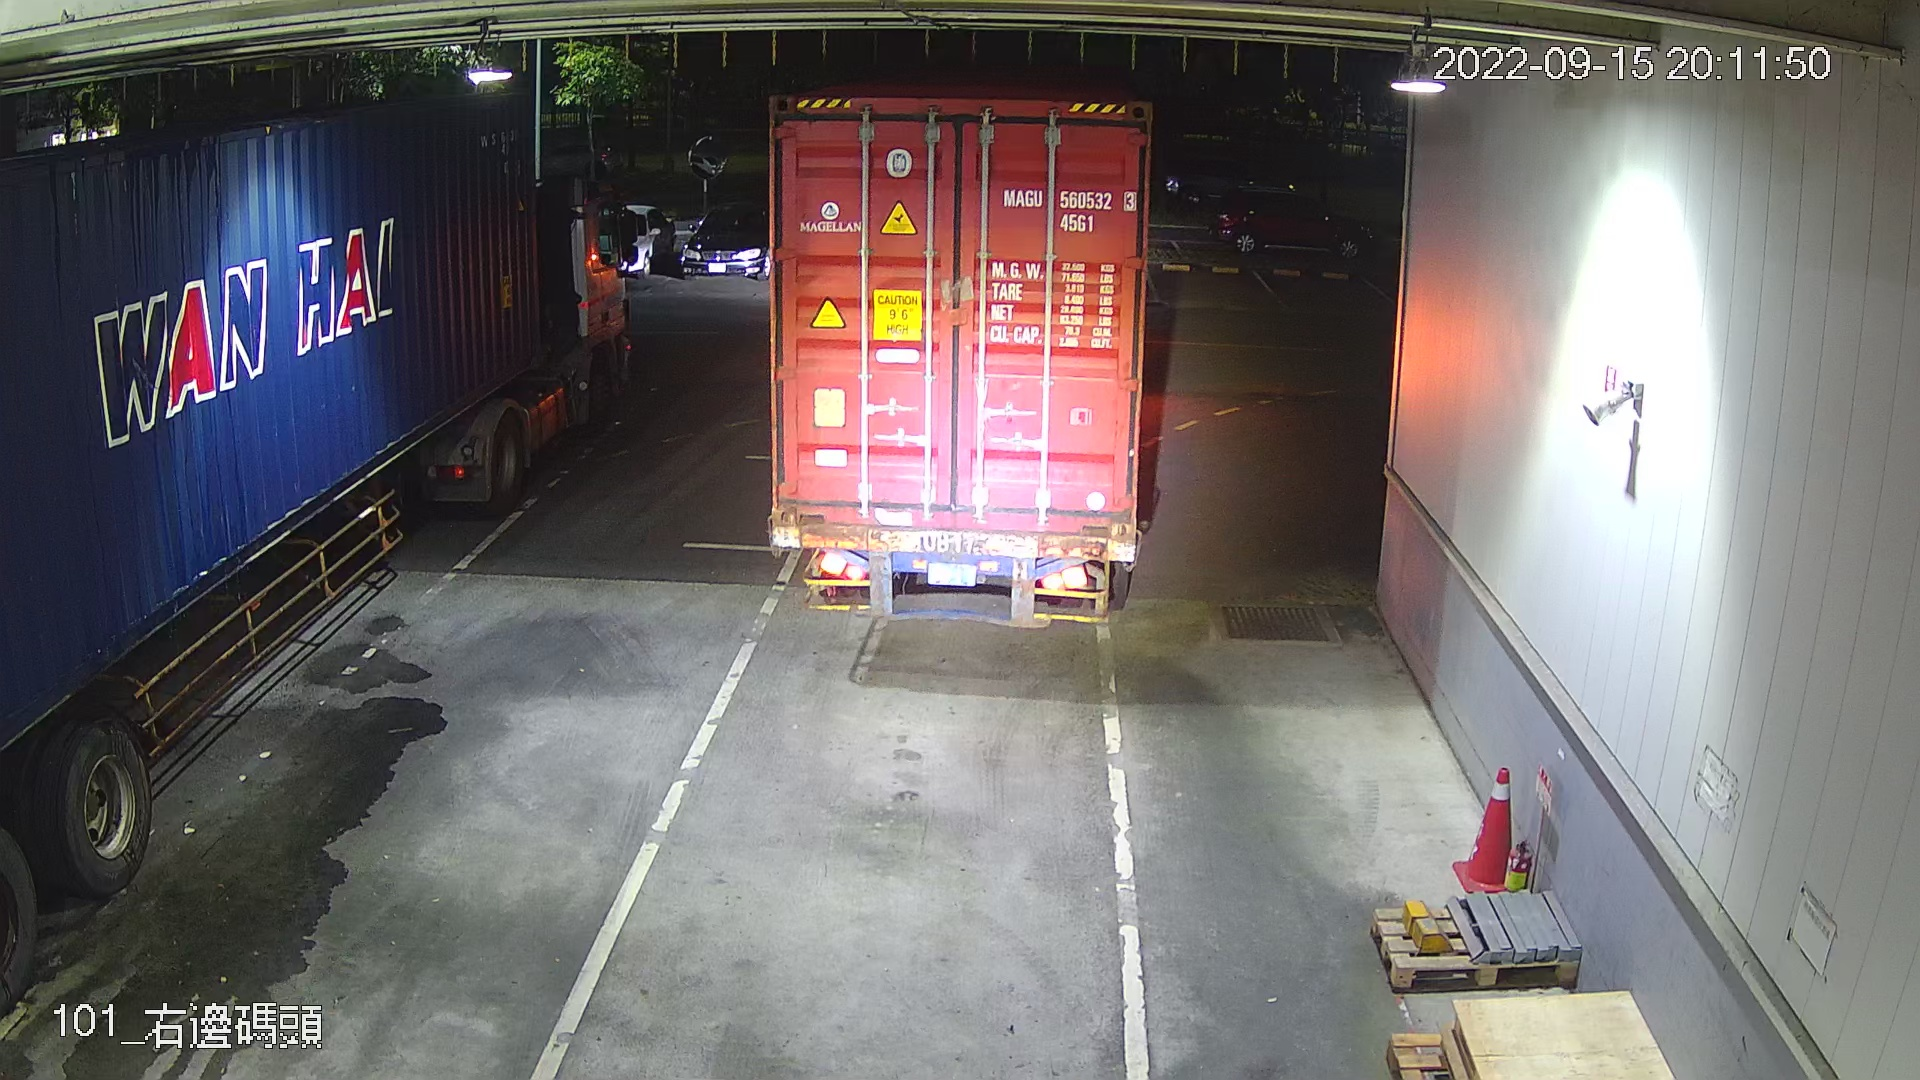container: (997, 177, 1139, 245)
